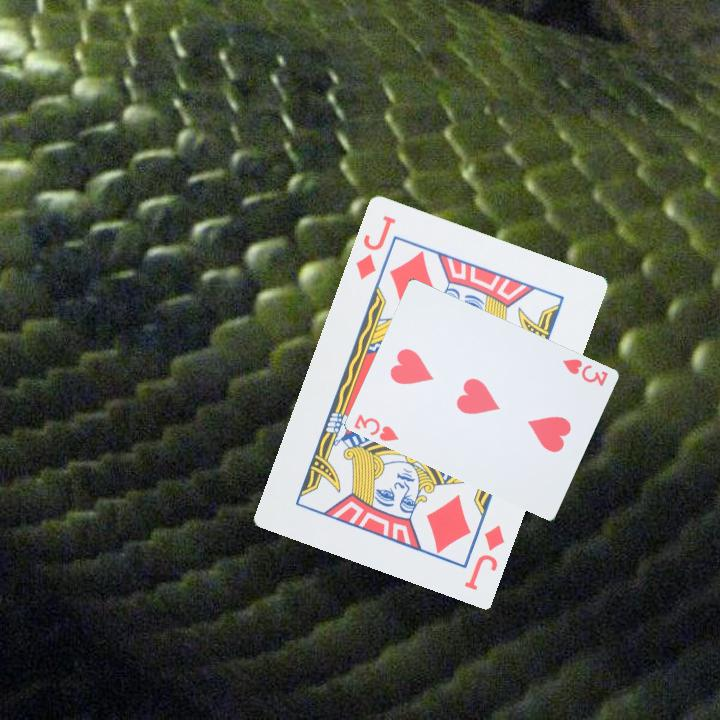3h: (558, 354, 611, 389), (350, 410, 402, 444)
Jd: (351, 211, 399, 283), (460, 521, 507, 594)
